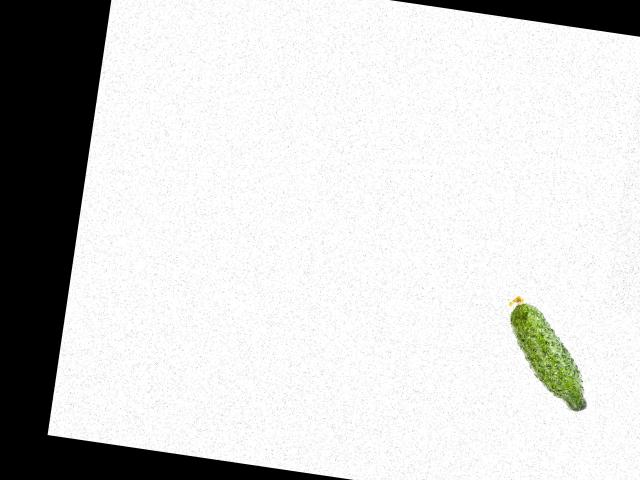cucumber: (495, 294, 601, 412)
